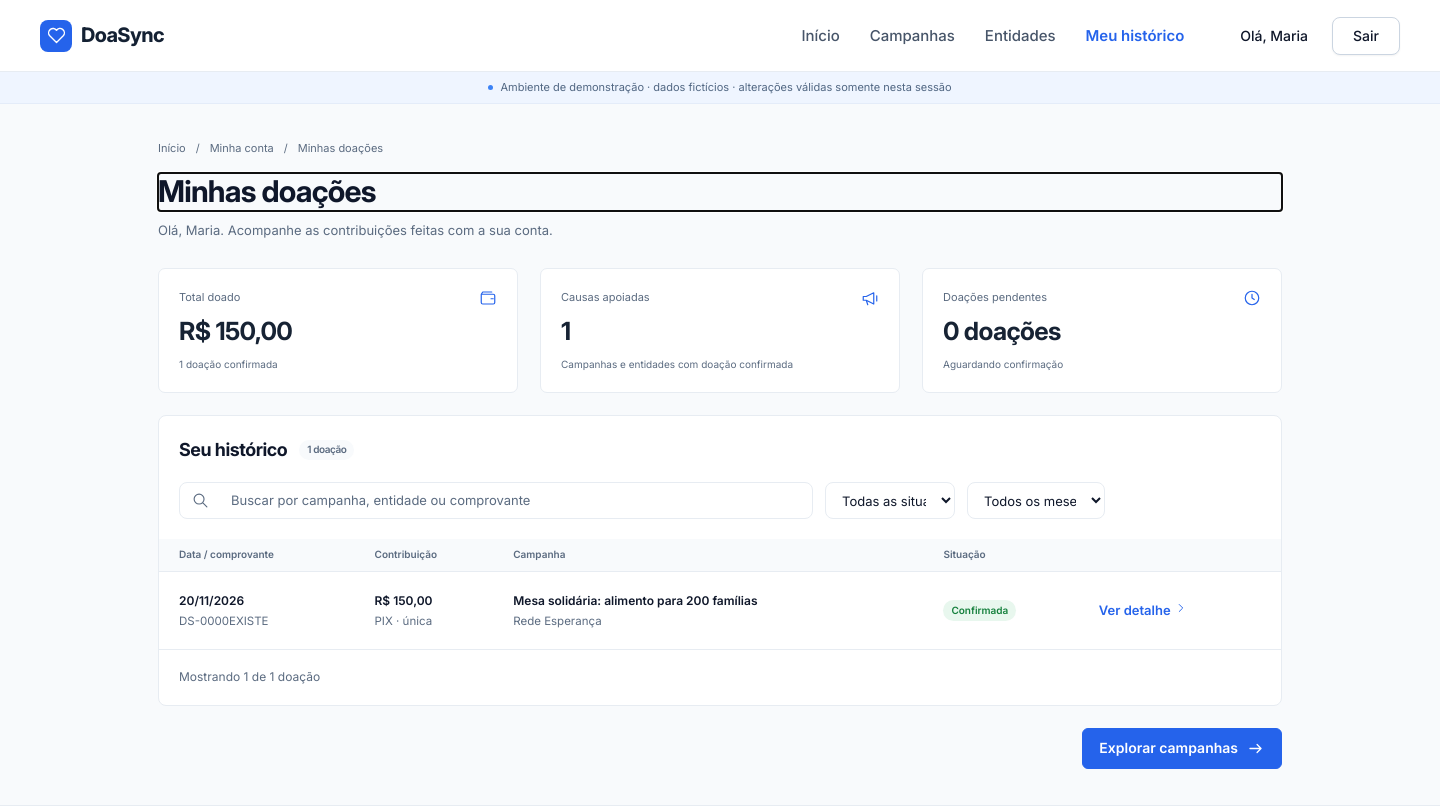
tela Minhas doações › filtra, mostra vazio e permite limpar
Expected: the heading "Minhas doações" is shown, x1=158 y1=173 x2=376 y2=209
Expected: the text "DS-0000EXISTE" is shown, x1=179 y1=614 x2=268 y2=628
Select "Cancelada" in the dropdown named "Situação" at point(890, 500), box x1=825 y1=482 x2=955 y2=519
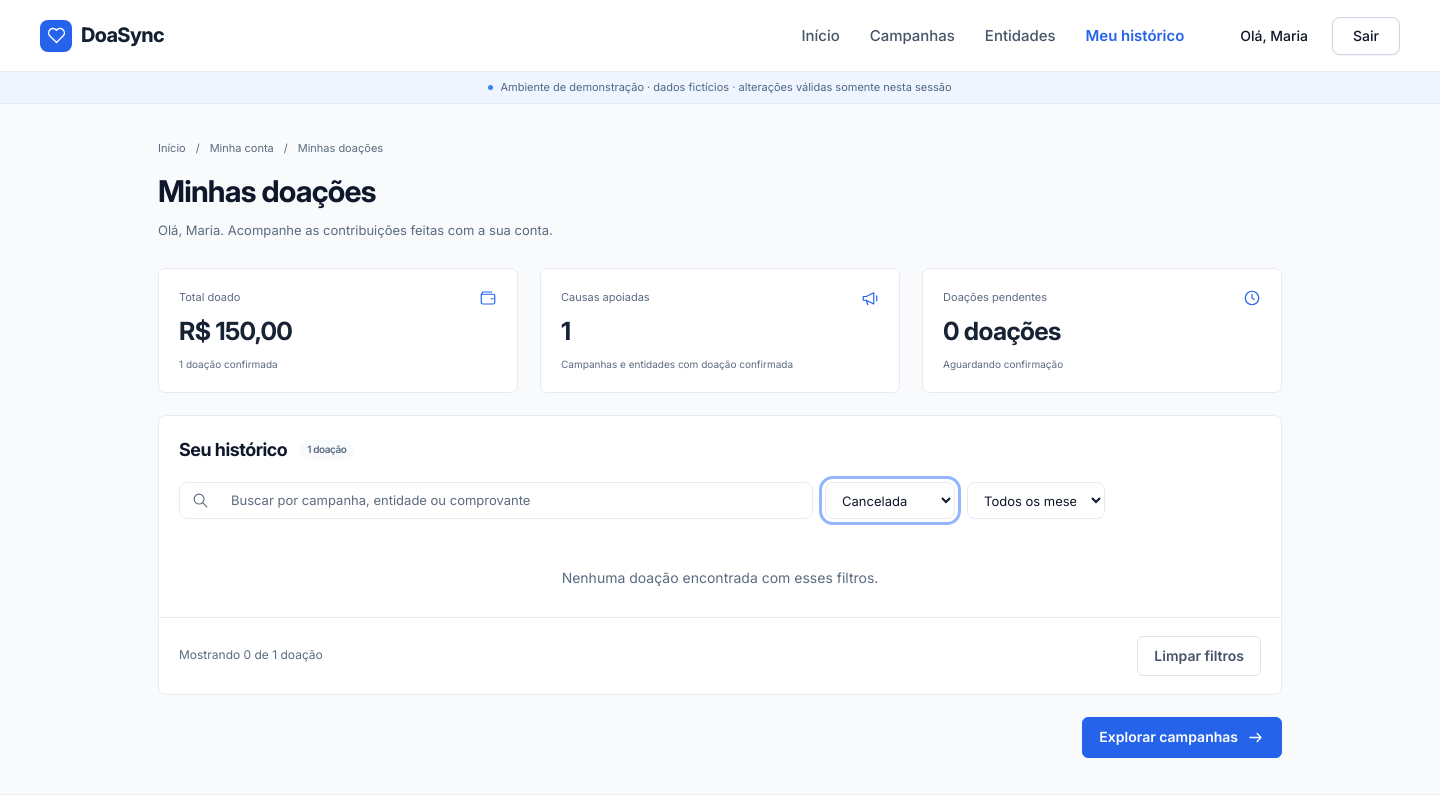
Expected: the text "Nenhuma doação encontrada com esses filtros." is shown, x1=562 y1=569 x2=878 y2=586
Click the button "Limpar filtros" at point(1199, 656), box x1=1137 y1=636 x2=1261 y2=676
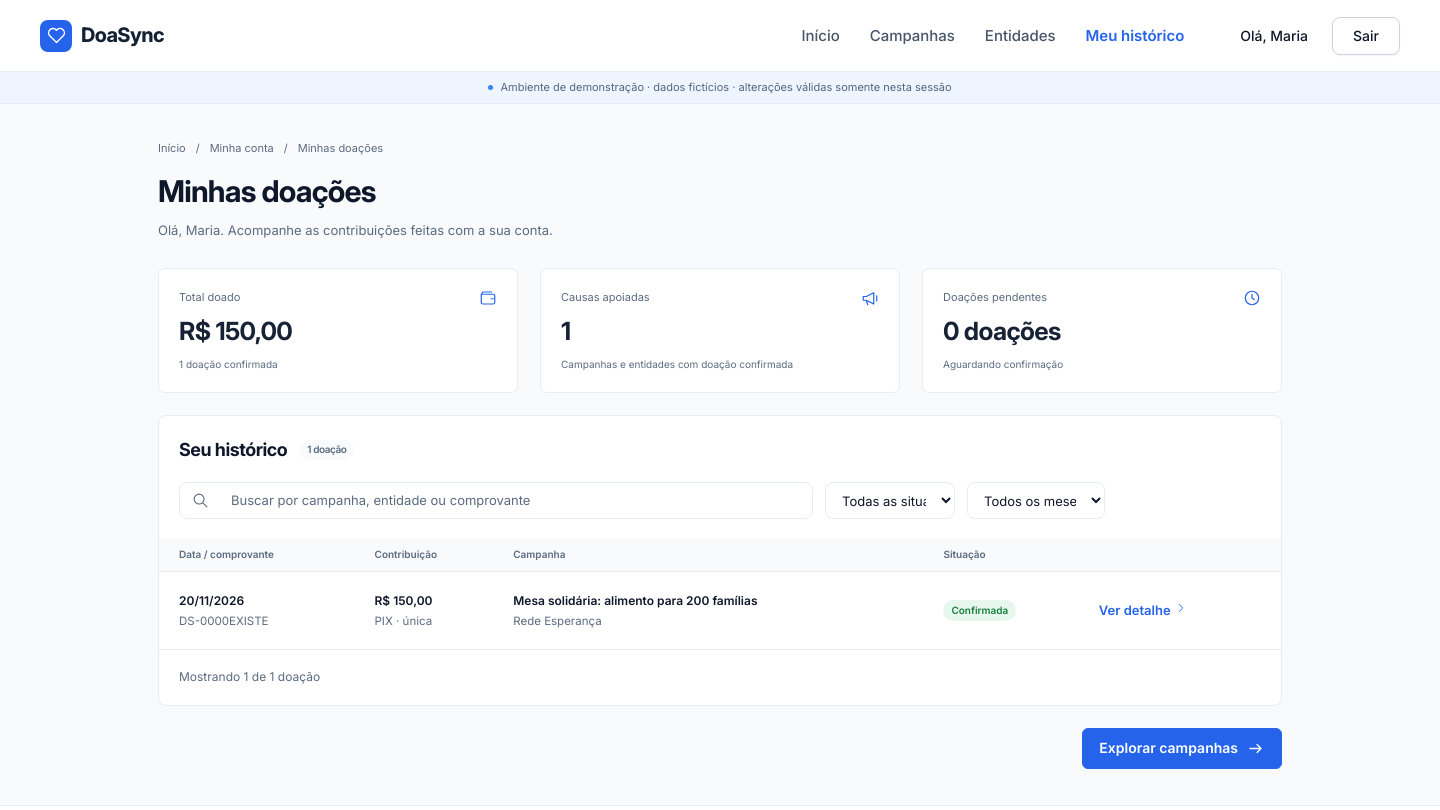
Expected: the number of links "Ver detalhe" is 1, x1=1099 y1=602 x2=1188 y2=618
